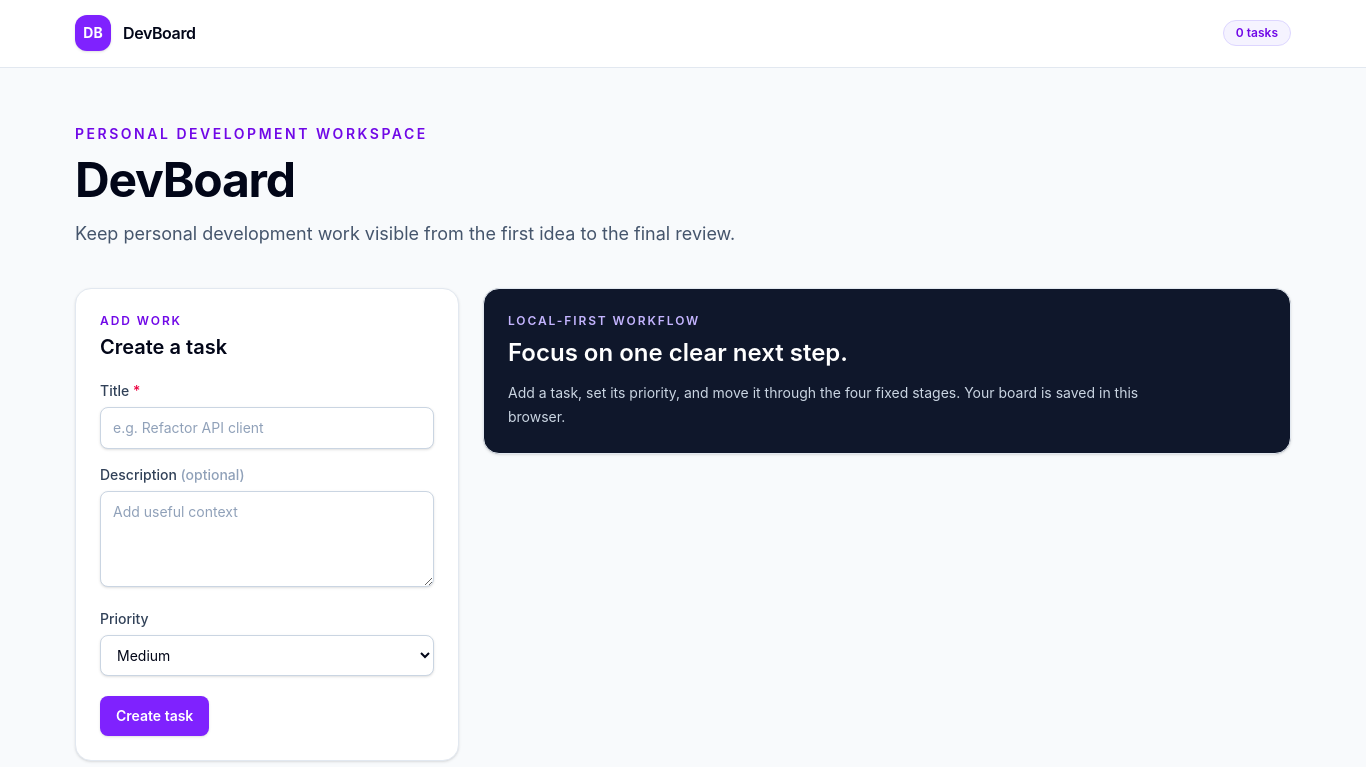
App task workflow › deletes a task after confirmation
Step 1. Type "Remove me" into the field labelled "Title *" → (267, 428), box [100,407,434,449]
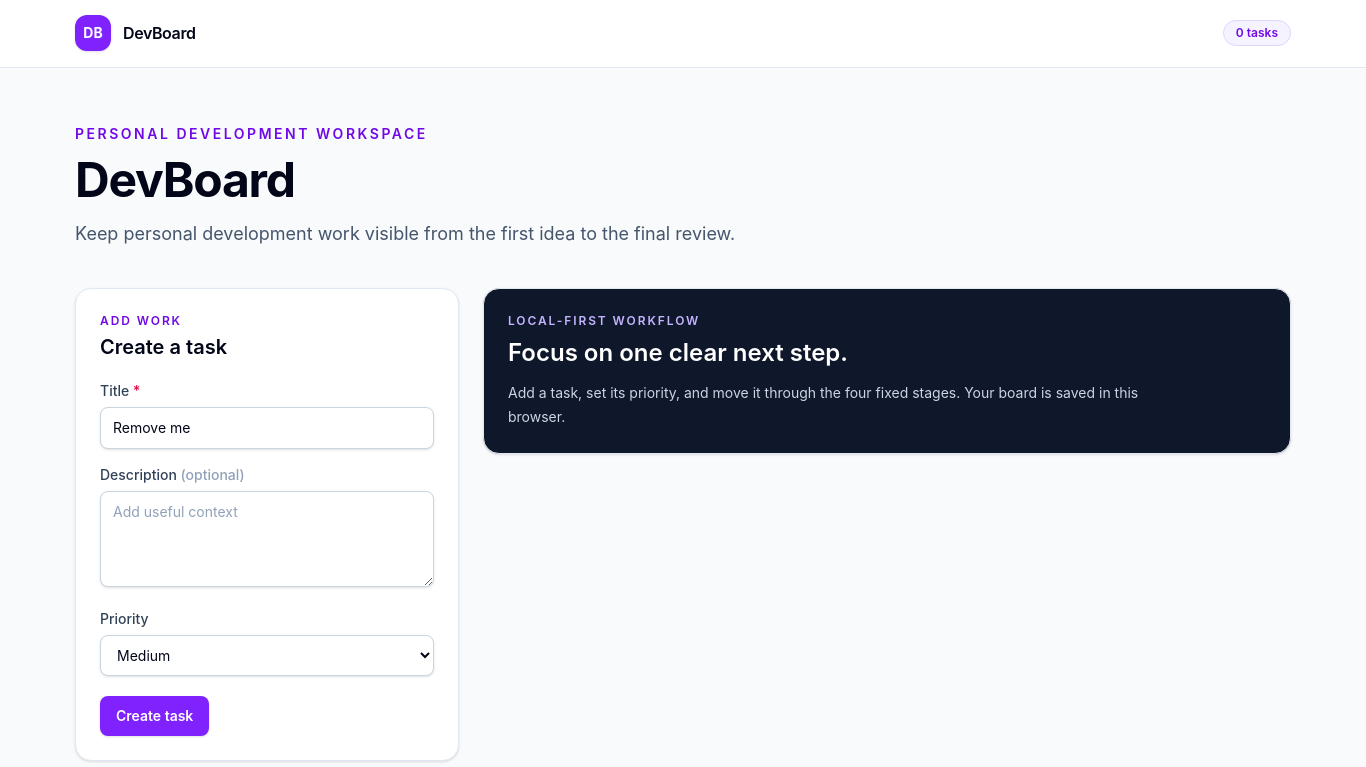
Step 2. Click the button "Create task" → (155, 716), box [100,696,209,736]
(page scrolled)
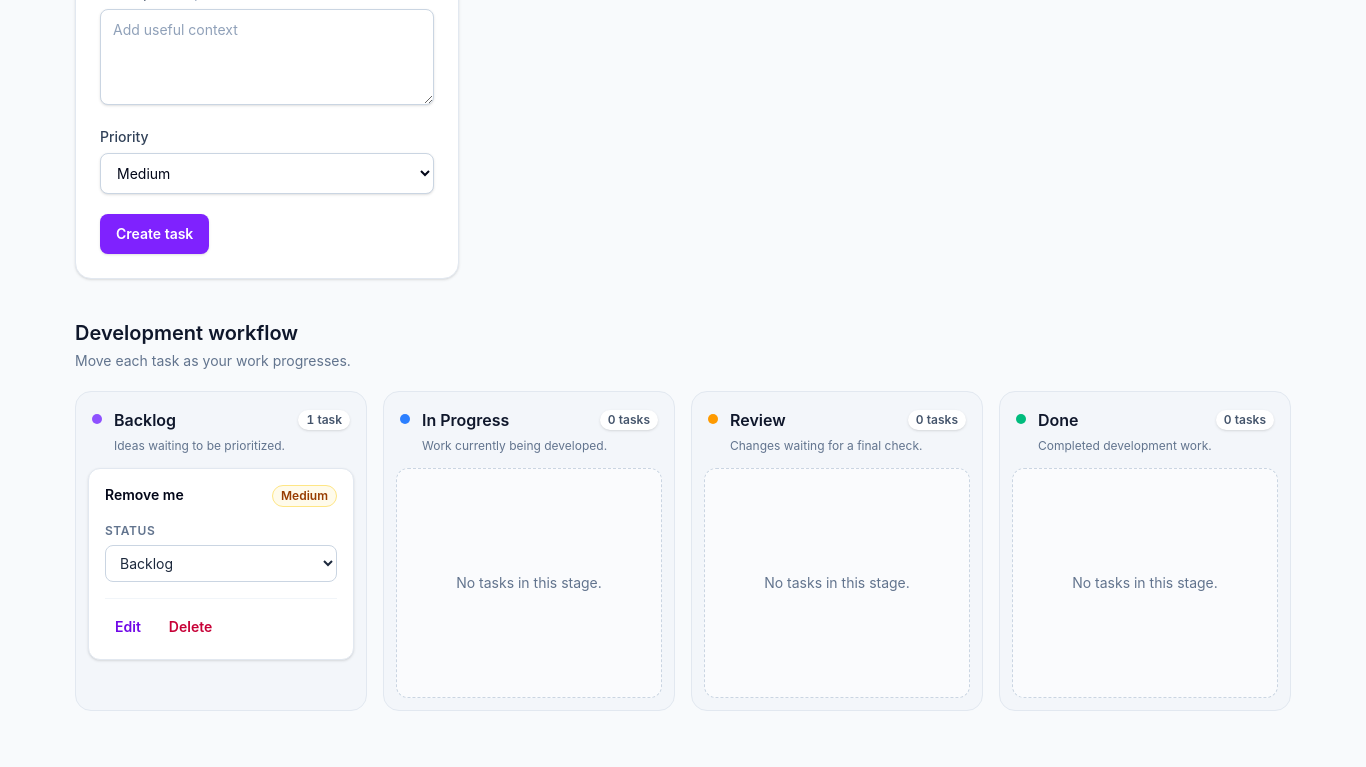
Step 3. Click the button with aria-label "Delete Remove me" → (190, 627), box [159,611,222,643]
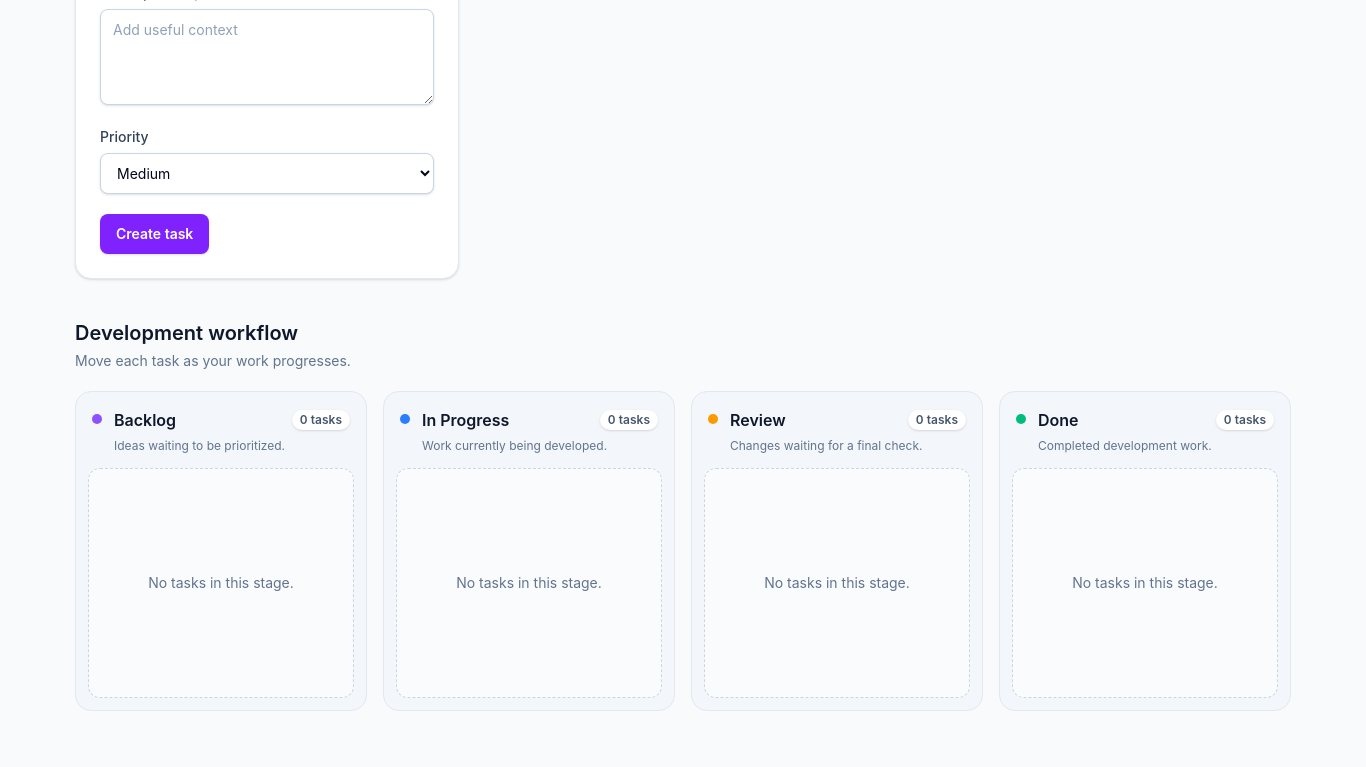
Check: the heading "Remove me" is gone
Check: the text "0 tasks" next to "Backlog" is shown, box [292,410,350,430]
